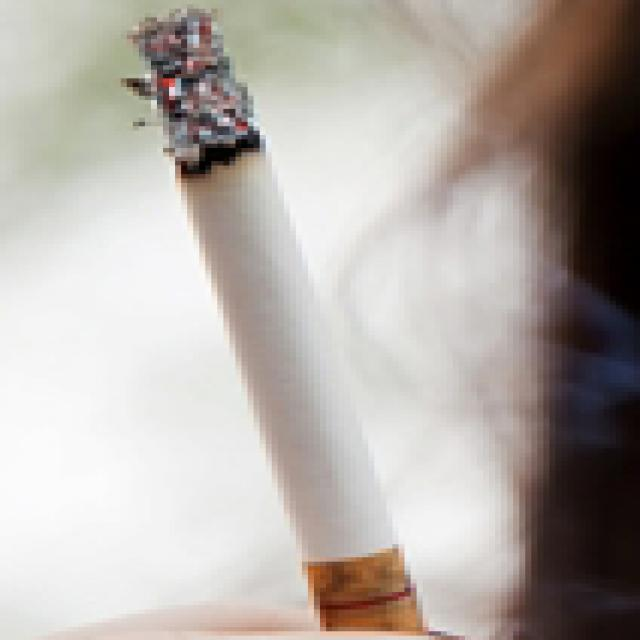rokok: (133, 18, 421, 640)
